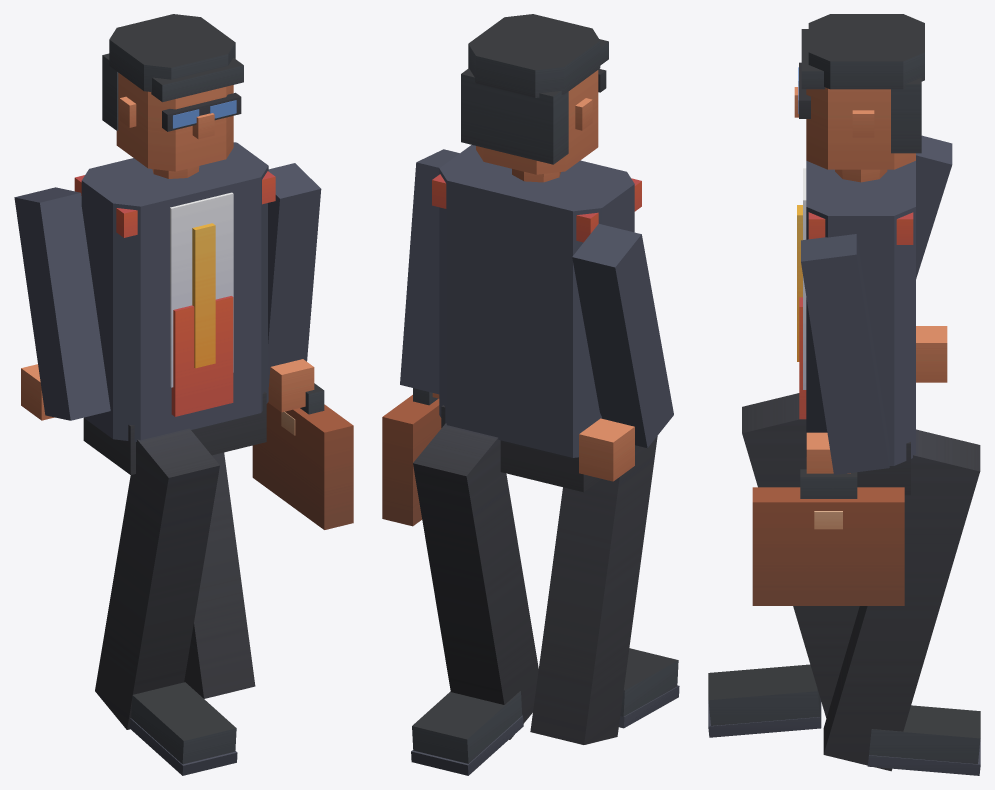
File: citizen_business_m.glb
3 views of the same model, side by side, from view 1: azimuth 30°, elevation 25°; view 2: azimuth 150°, elevation 25°; view 3: azimuth 270°, elevation 25° (orthographic). The views are drawn at different scales.
Parts seen in each view (by area): view 1: citizen_business_m; view 2: citizen_business_m; view 3: citizen_business_m.
Part boxes in pixels (x1,y1,x2,y2): citizen_business_m: [14, 14, 353, 775]; citizen_business_m: [382, 14, 679, 775]; citizen_business_m: [708, 14, 980, 775].
Bounding box in the file's own units: 0.636 × 1.64 × 0.5728.
Materials: 1 (1 with a texture image).
